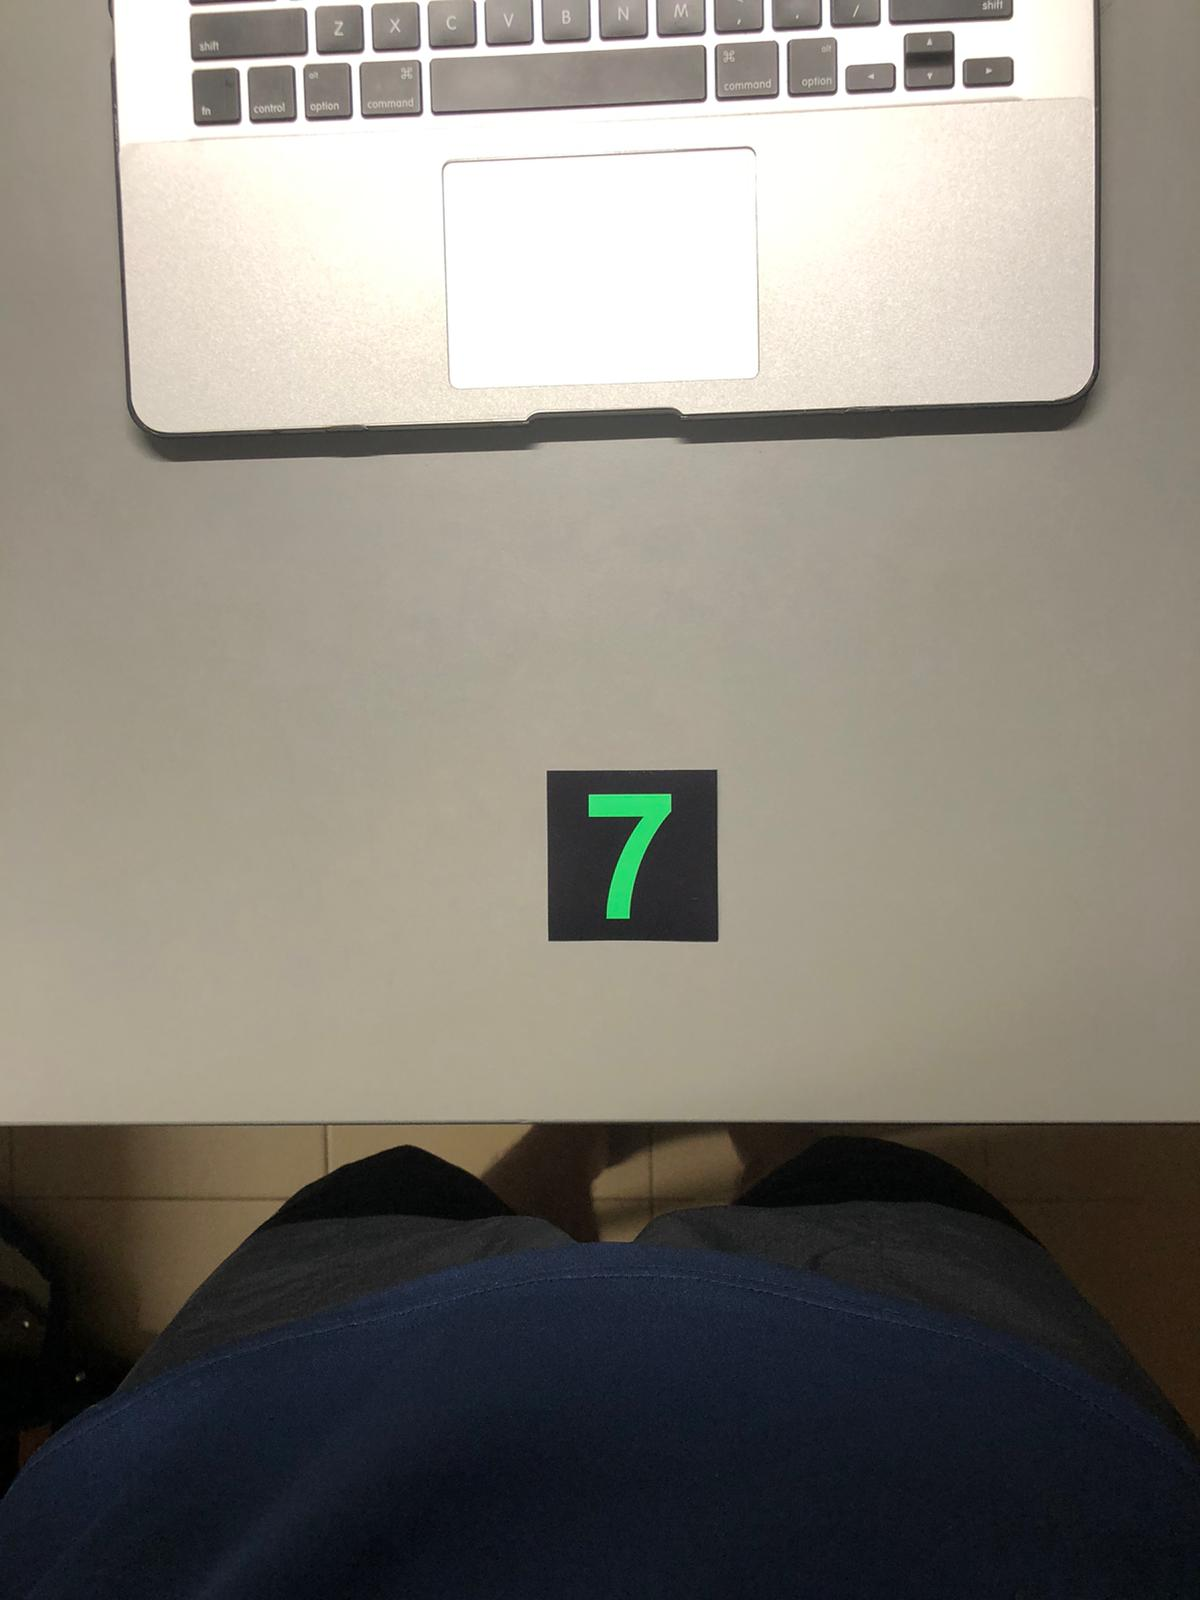Number 7: (542, 763, 718, 936)
